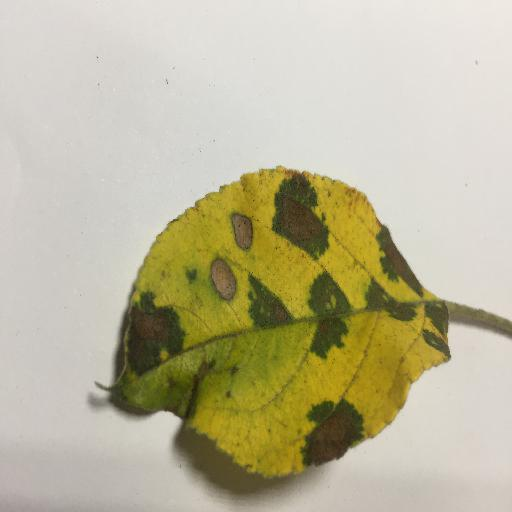Brown_Spot: (310, 409, 352, 465), (128, 305, 174, 349), (281, 192, 319, 240), (211, 262, 241, 301), (384, 243, 406, 280), (231, 214, 252, 250), (187, 376, 202, 415), (275, 303, 288, 322), (320, 321, 333, 336)
